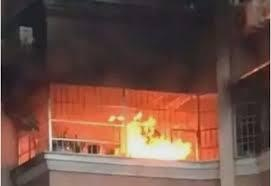fire: (115, 111, 192, 160)
